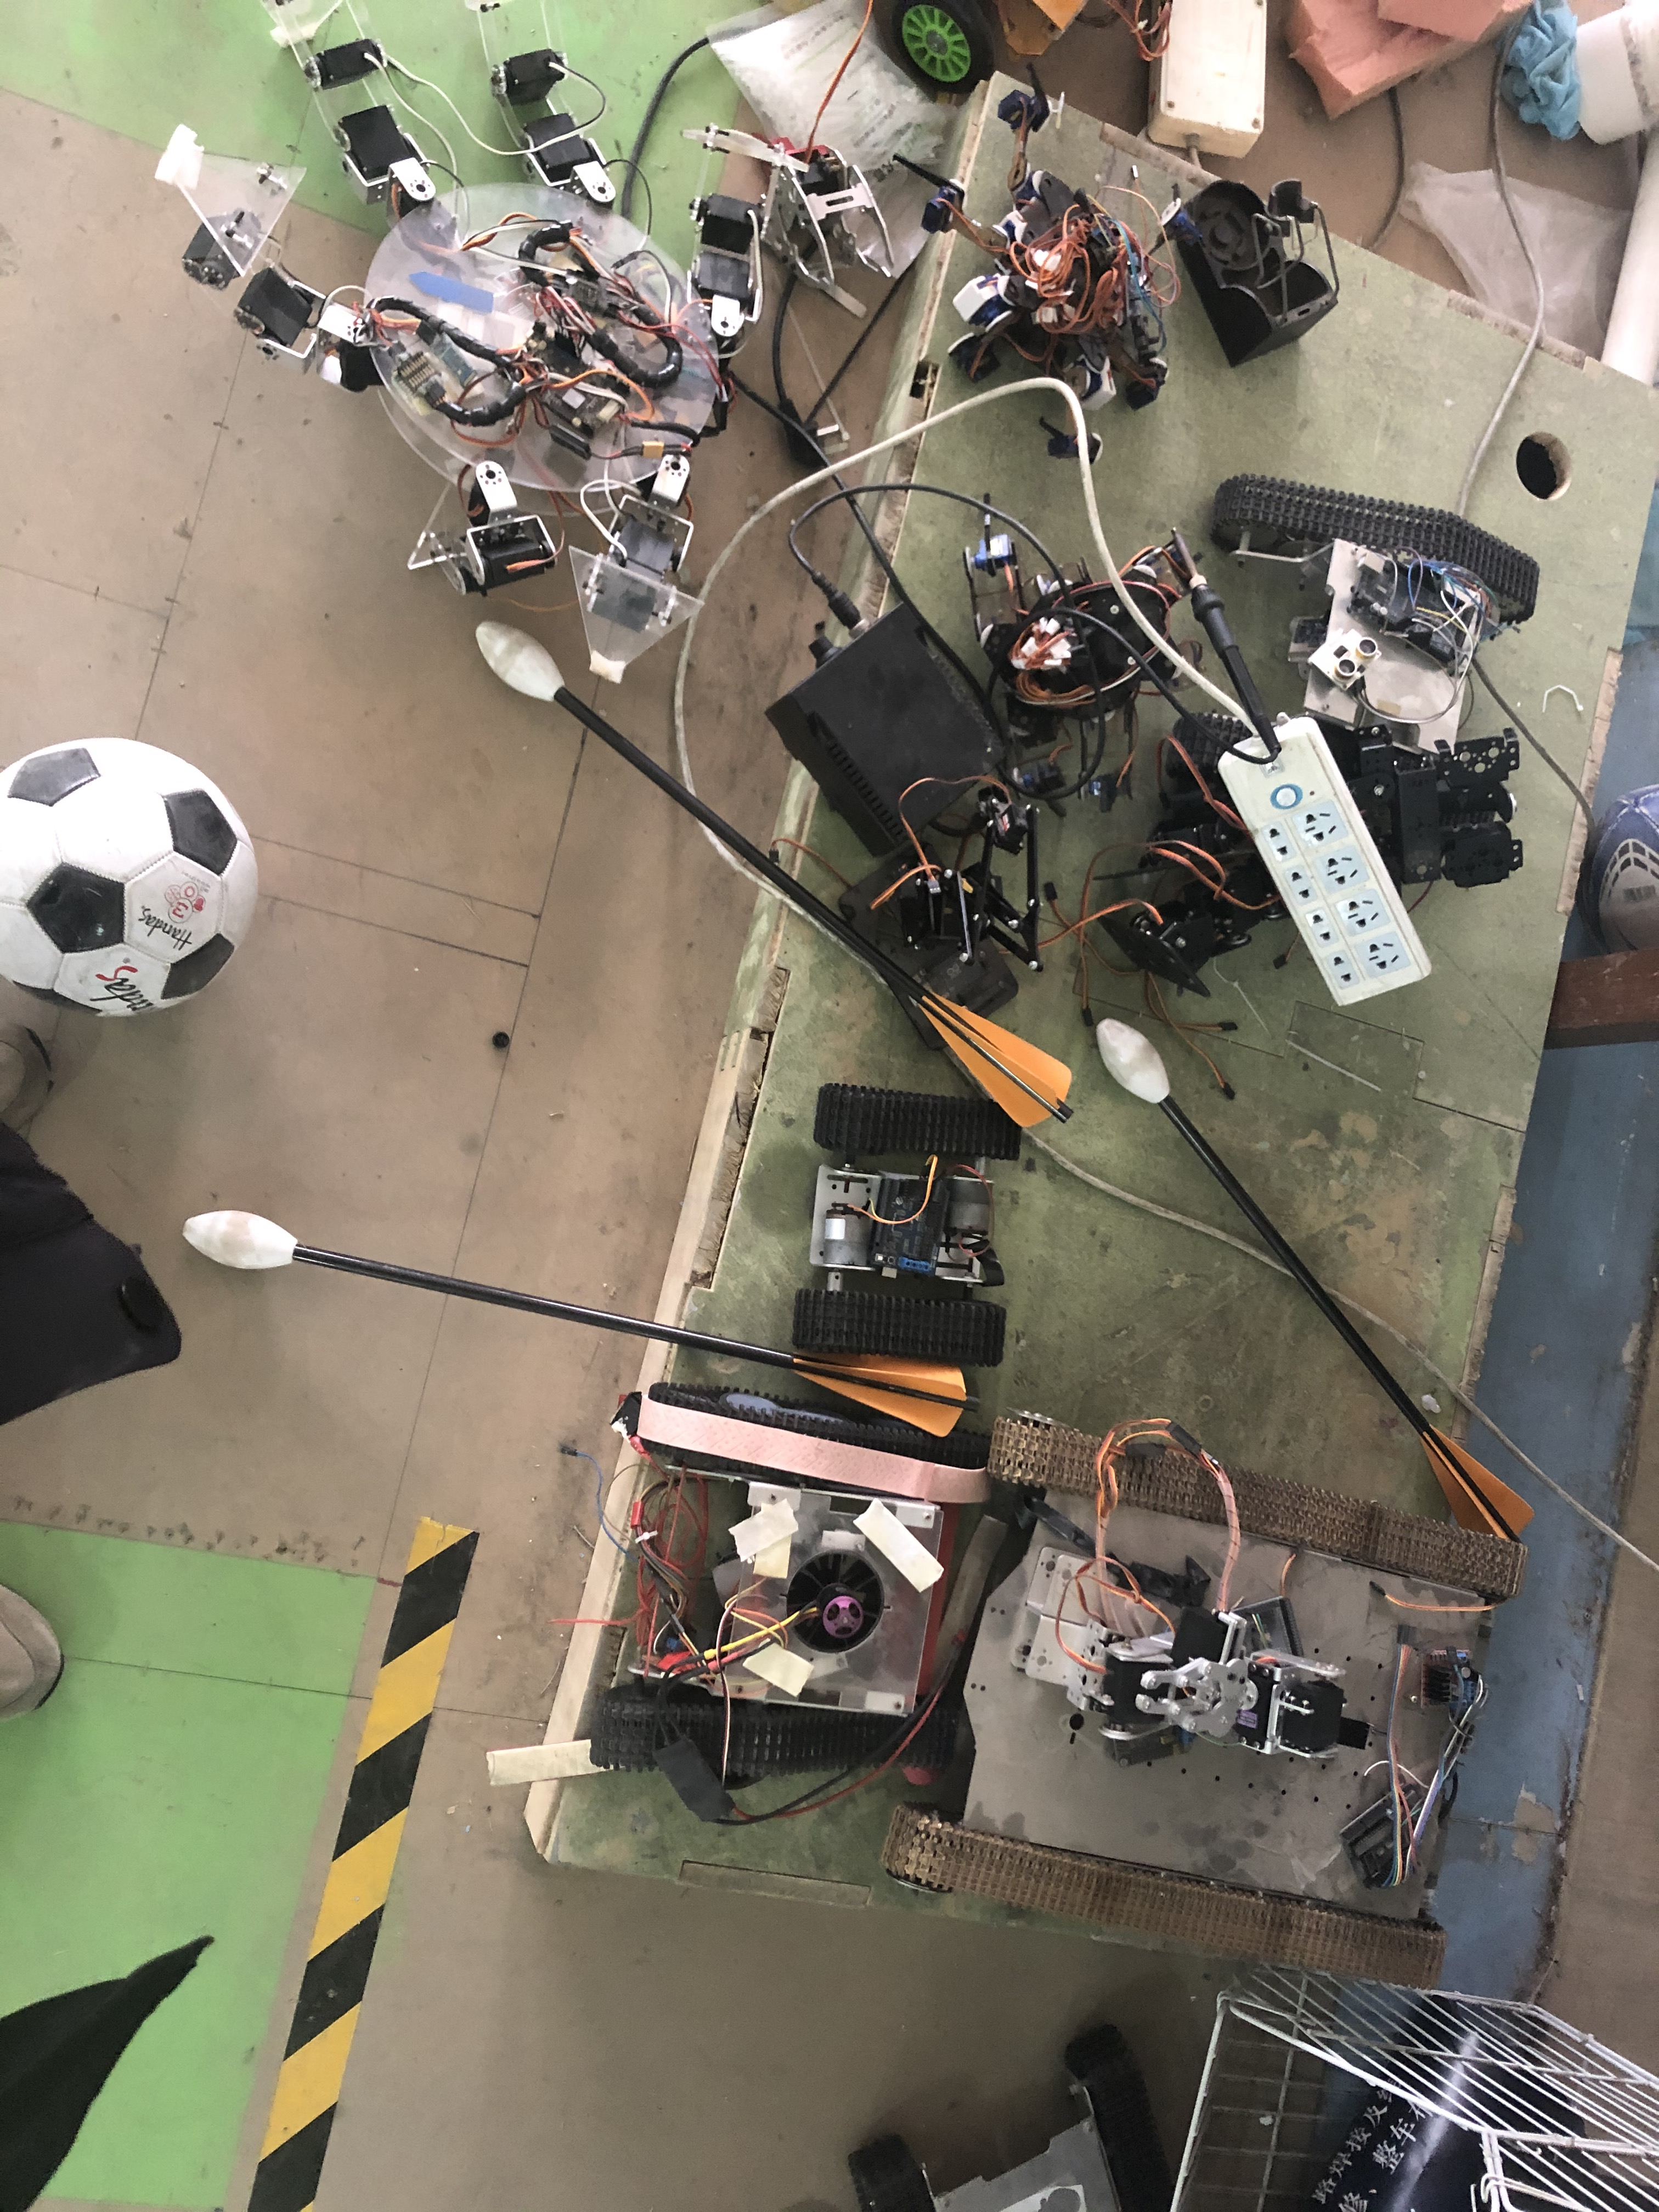arrow: (472, 608, 1080, 1127), (1094, 1007, 1523, 1529), (179, 1202, 972, 1439)
arrowFront: (1091, 1010, 1176, 1111), (476, 613, 568, 702), (183, 1205, 301, 1266)
